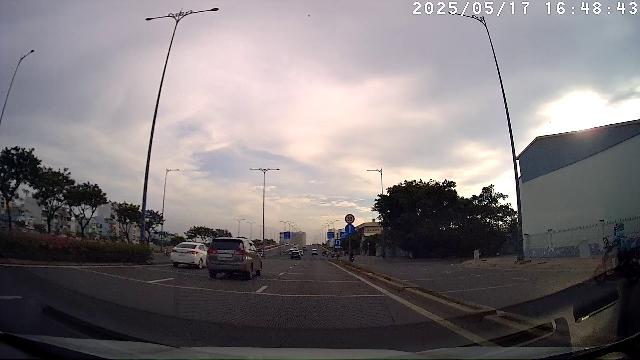127-toc-do-toi-da-60: (345, 214, 355, 224)
301a-cac-xe-chi-duoc-di-thang: (345, 224, 355, 234)
